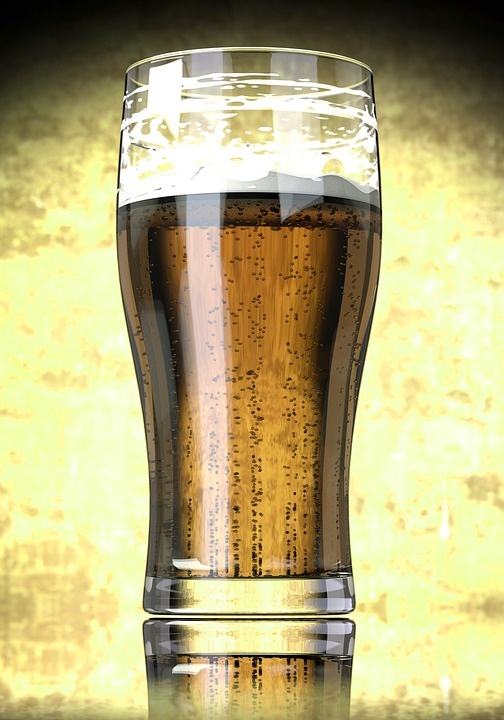glassBeer: (120, 51, 382, 634)
